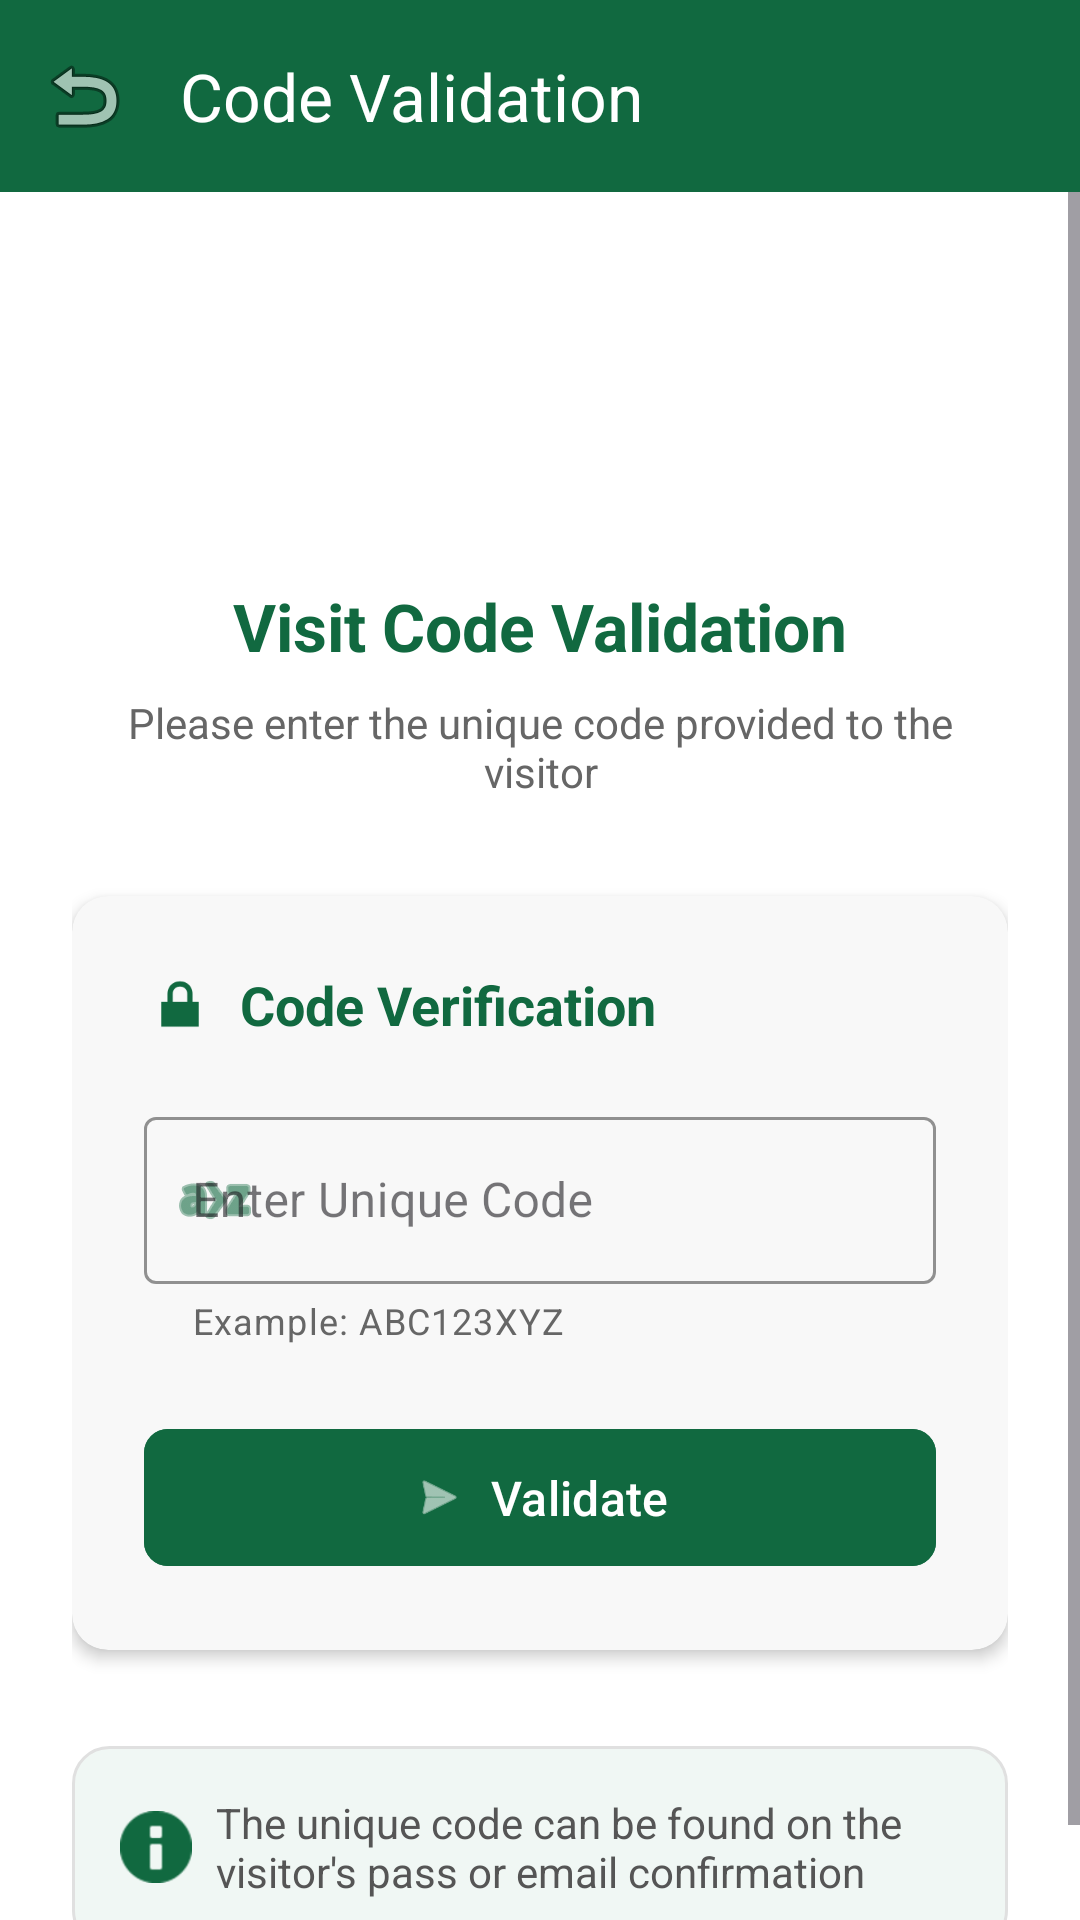

Icon bounding boxes for this 1080 × 1920 phone screenshot, format rect(x1, y1, x2, y2):
info: rect(120, 1811, 192, 1883)
lock: rect(161, 981, 199, 1027)
